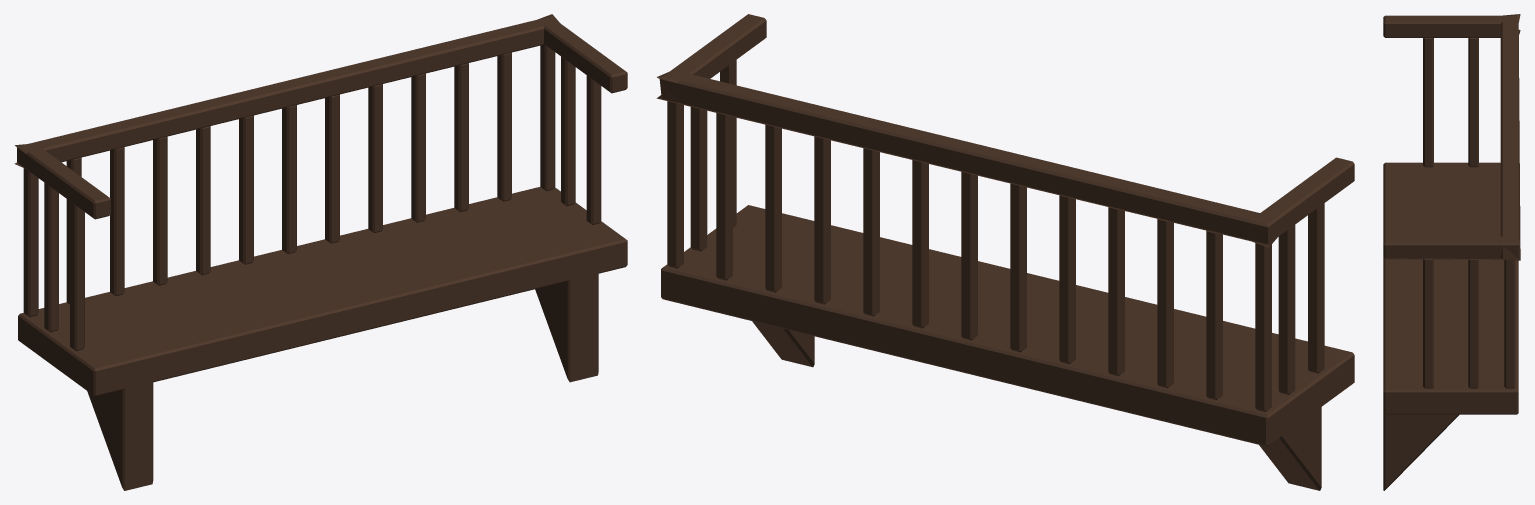
File: balcony_w12.fbx
3 views of the same model, side by side, from view 1: azimuth 30°, elevation 25°; view 2: azimuth 150°, elevation 25°; view 3: azimuth 270°, elevation 25° (orthographic). The views are drawn at different scales.
Visible parts, largest first — view 1: balcony_w12; view 2: balcony_w12; view 3: balcony_w12.
Part boxes in pixels (x1=…): balcony_w12: x1=14, y1=14, x2=627, y2=490; balcony_w12: x1=656, y1=14, x2=1354, y2=490; balcony_w12: x1=1383, y1=14, x2=1520, y2=490.
Bounding box in the file's own units: 1208 × 637 × 304.
